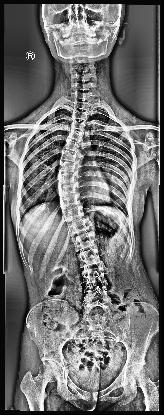Vertebrae: (81, 268, 109, 288), (77, 249, 103, 270), (86, 300, 112, 320), (72, 234, 96, 254), (83, 287, 113, 301), (66, 221, 90, 238), (62, 208, 84, 222), (59, 197, 79, 209), (66, 130, 84, 142), (62, 140, 80, 152), (58, 162, 76, 174), (58, 184, 76, 196), (60, 152, 78, 163), (72, 110, 88, 122), (57, 174, 75, 184), (70, 120, 84, 131)
